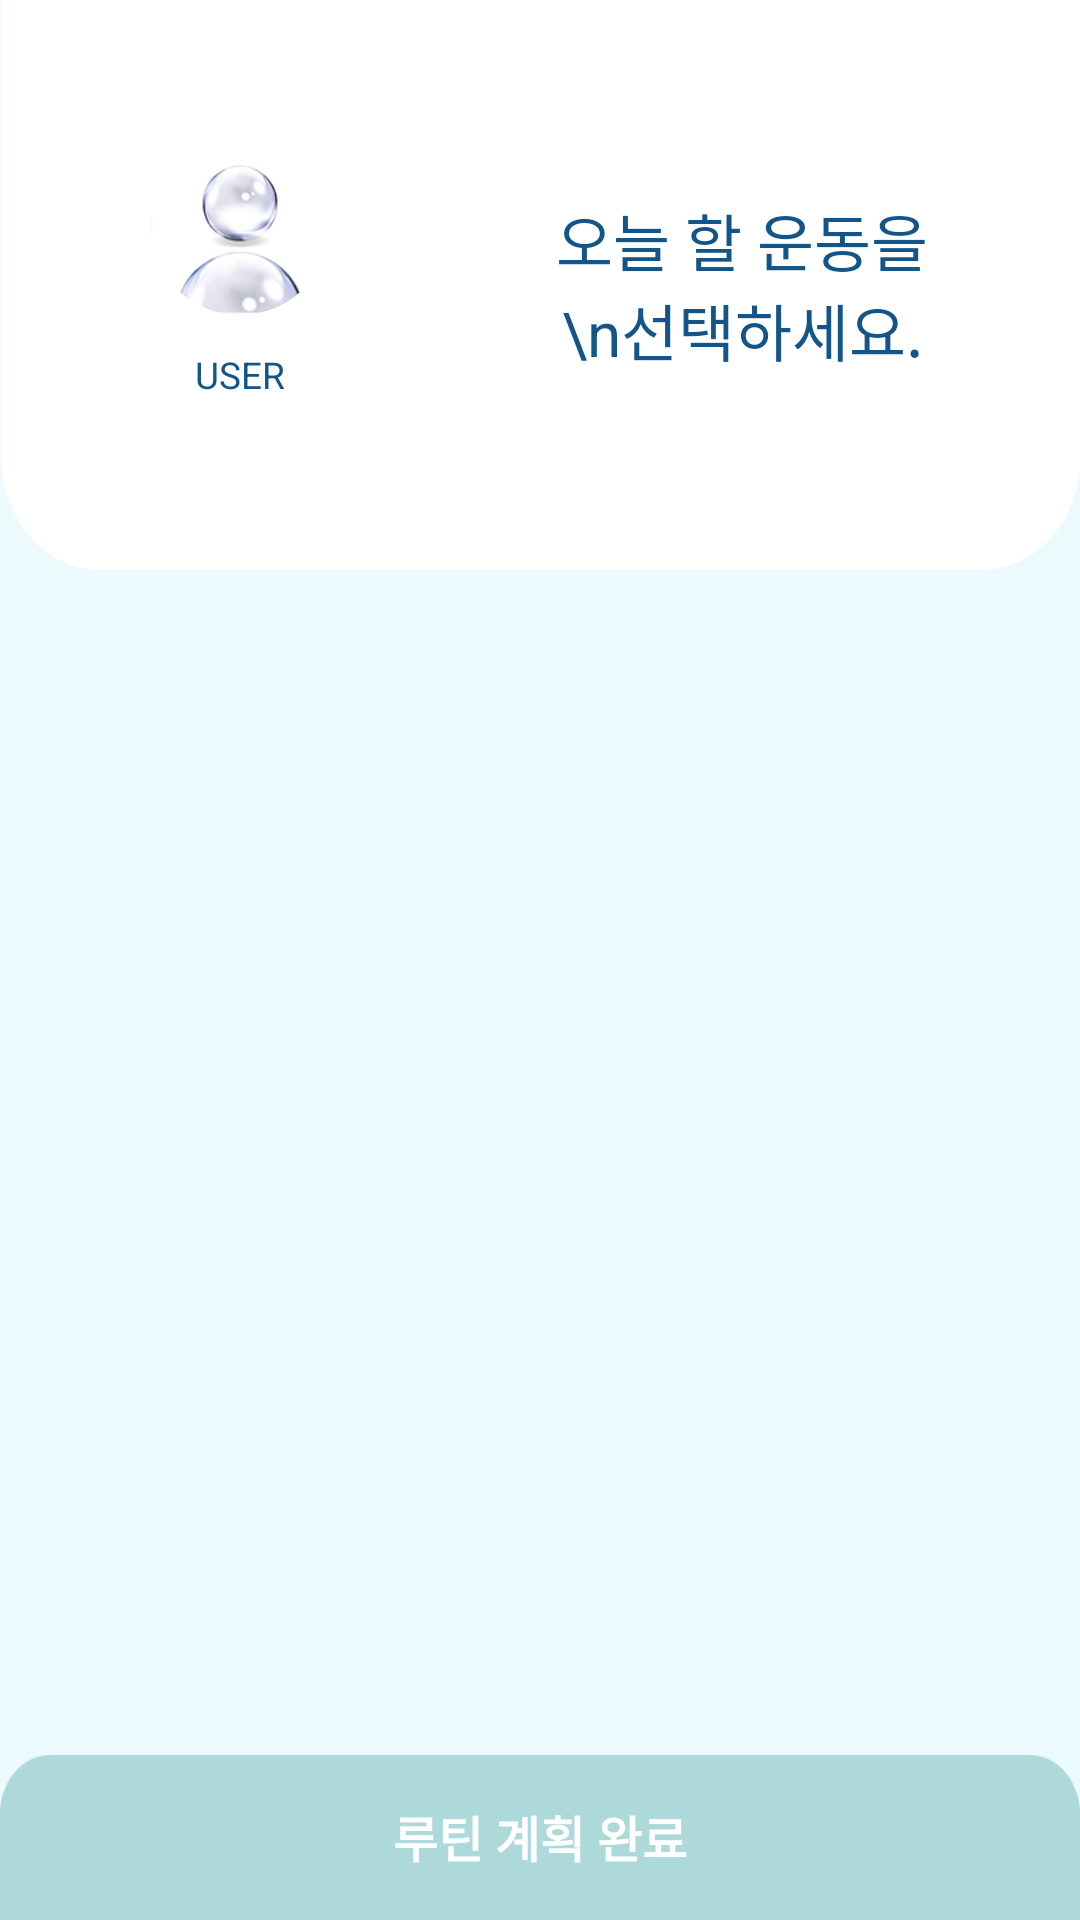

Icon click points for this 1080w x 1920h phone screenshot, format (x,y):
iconprofile: (240,239)
